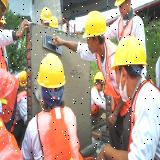Helmet: (111, 36, 148, 70), (36, 55, 66, 91), (82, 14, 108, 38), (19, 68, 28, 89), (41, 6, 52, 22), (94, 70, 105, 86), (50, 14, 59, 28)
Vest: (95, 39, 132, 119), (128, 78, 160, 160), (34, 107, 81, 160), (118, 15, 140, 40)
